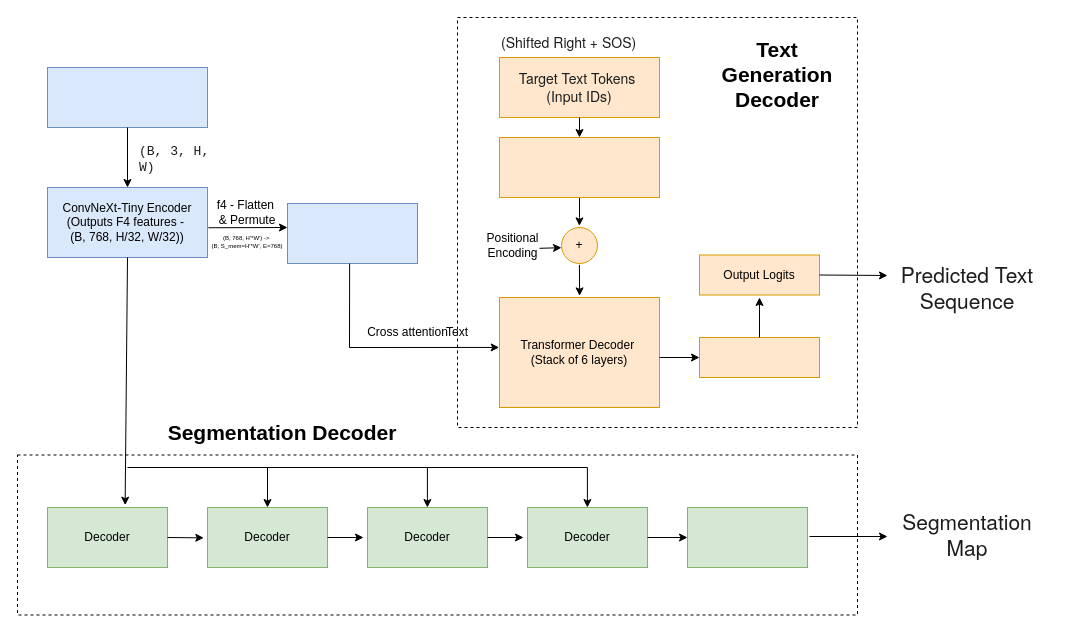
This 1065x633 diagram has some shape labels left out. The shapes that lost their labels are listed below. From the top down, each one's box as (x1, y1, x2, y2) in pixels, then its label:
(46, 66, 208, 128): Input CT Scan Image
(498, 136, 660, 198): Text Embedding
(286, 202, 418, 264): Memory (Image Features)
(698, 336, 820, 378): Linear
(686, 506, 808, 568): Upsample
